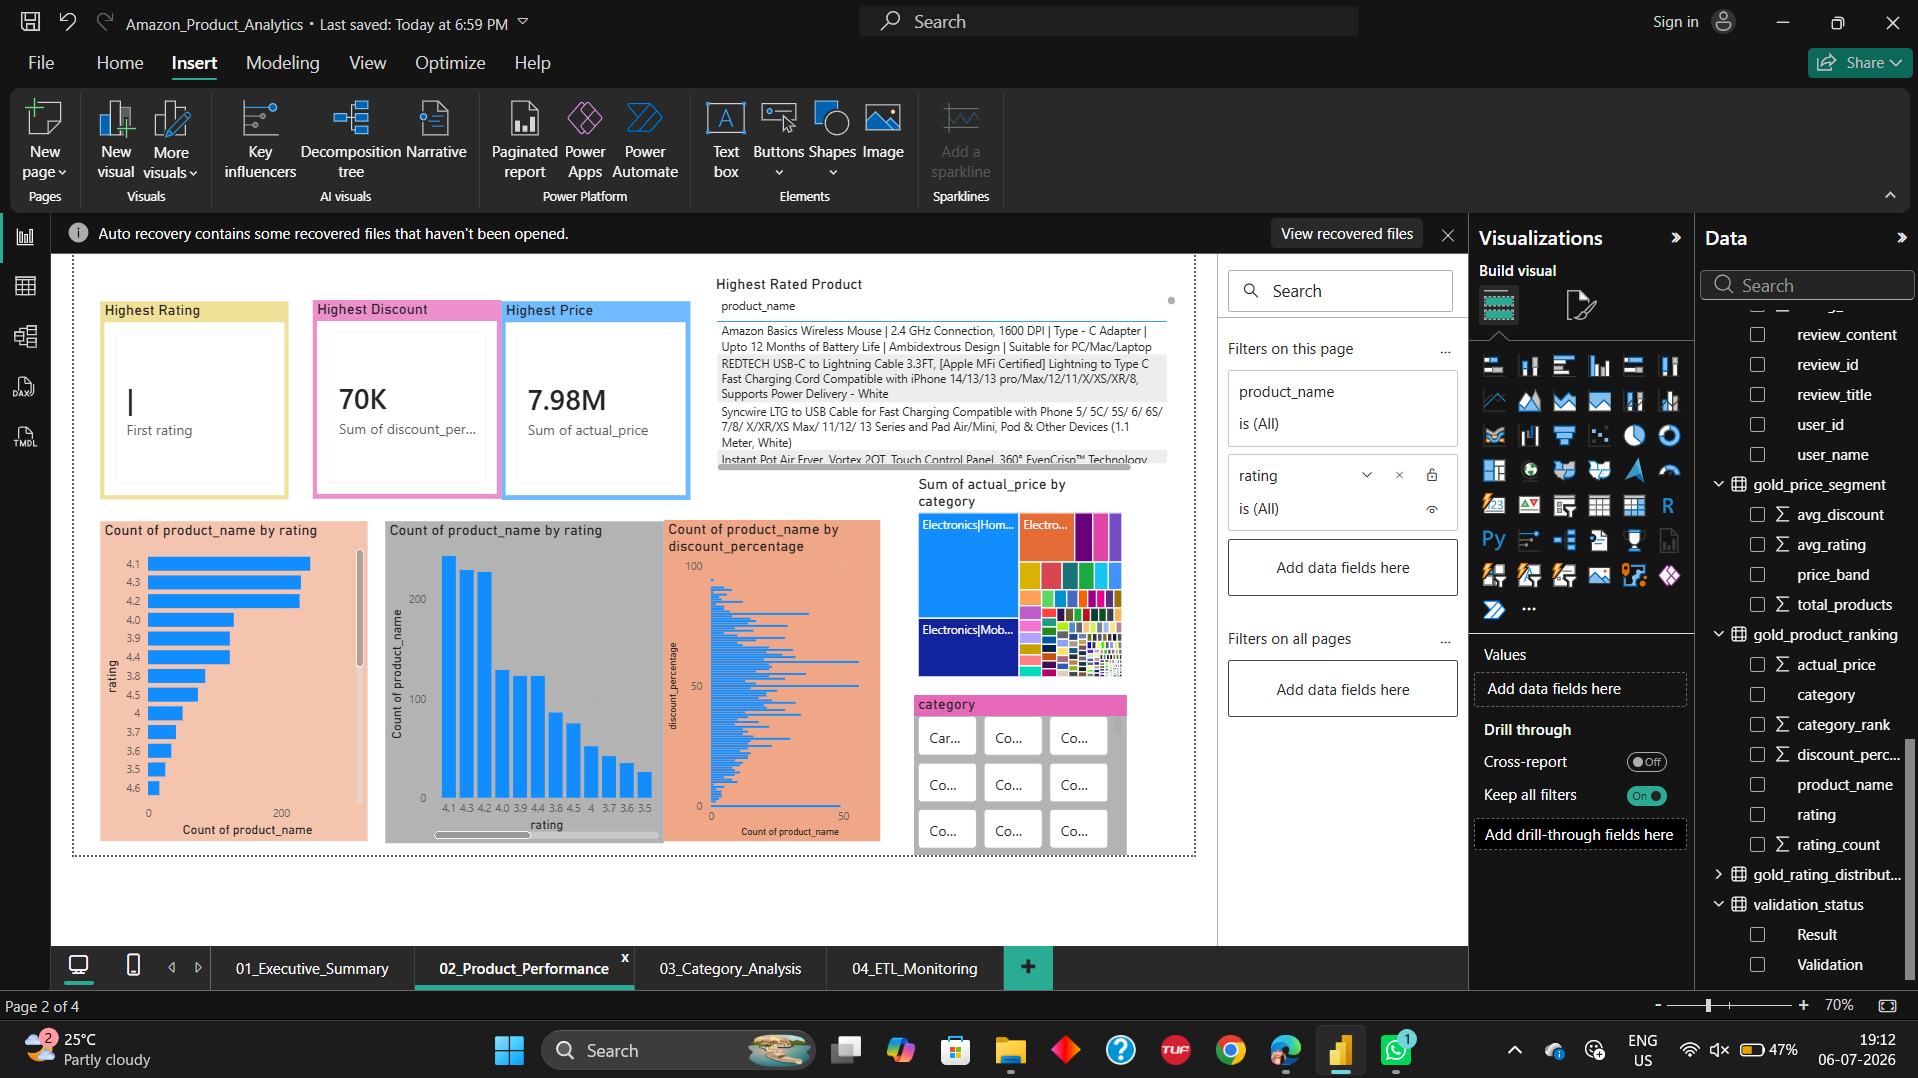

The page's visual inventory and layout, read from the dashboard file:
{"tool":"powerbi","page":{"name":"02_Product_Performance","canvas":[1280,720],"ordinal":1},"visuals":[{"type":"cardVisual","title":"Highest Rating","fields":{"Data":["Min(gold_product_ranking.rating)"]},"box":[30.2,86.4,215.4,226.4],"z":0},{"type":"cardVisual","title":"Highest Discount","fields":{"Data":["Sum(gold_product_ranking.discount_percentage)"]},"box":[272.9,85.7,215.7,227.1],"z":1000},{"type":"cardVisual","title":"Highest Price","fields":{"Data":["Sum(gold_product_ranking.actual_price)"]},"box":[488.6,87.1,215.7,227.1],"z":2000},{"type":"tableEx","title":"Highest Rated Product","fields":{"Values":["gold_product_ranking.product_name","gold_product_ranking.rating"]},"box":[728.6,57.6,535.2,229.2],"z":3000},{"type":"clusteredBarChart","fields":{"Y":["CountNonNull(gold_product_ranking.product_name)"],"Category":["gold_product_ranking.rating"]},"box":[30,338.6,305.7,365.7],"z":4000},{"type":"clusteredColumnChart","fields":{"Y":["CountNonNull(gold_product_ranking.product_name)"],"Category":["gold_product_ranking.rating"]},"box":[356,338,318,368],"z":5000},{"type":"barChart","fields":{"Y":["CountNonNull(gold_product_ranking.product_name)"],"Category":["gold_product_ranking.discount_percentage"]},"box":[674.3,337.1,247.1,367.1],"z":6000},{"type":"treemap","fields":{"Values":["Sum(gold_product_ranking.actual_price)"],"Group":["gold_product_ranking.category"]},"box":[960,285.7,242.9,235.7],"z":6001},{"type":"advancedSlicerVisual","fields":{"Values":["gold_product_ranking.category"]},"box":[960,537.1,242.9,182.9],"z":6002}]}

Visuals, with their boxes on the page's 1280x720 design canvas (x1, y1, x2, y2). These are canvas units, not pixel positions in the 1918x1078 screenshot, which may show the page scaled, cropped or inside an application window:
"Highest Rating" cardVisual: bbox(30, 86, 246, 313)
"Highest Discount" cardVisual: bbox(273, 86, 489, 313)
"Highest Price" cardVisual: bbox(489, 87, 704, 314)
"Highest Rated Product" tableEx: bbox(729, 58, 1264, 287)
clusteredBarChart - CountNonNull(gold_product_ranking.product_name) x gold_product_ranking.rating: bbox(30, 339, 336, 704)
clusteredColumnChart - CountNonNull(gold_product_ranking.product_name) x gold_product_ranking.rating: bbox(356, 338, 674, 706)
barChart - CountNonNull(gold_product_ranking.product_name) x gold_product_ranking.discount_percentage: bbox(674, 337, 921, 704)
treemap - Sum(gold_product_ranking.actual_price) x gold_product_ranking.category: bbox(960, 286, 1203, 521)
advancedSlicerVisual - gold_product_ranking.category: bbox(960, 537, 1203, 720)
